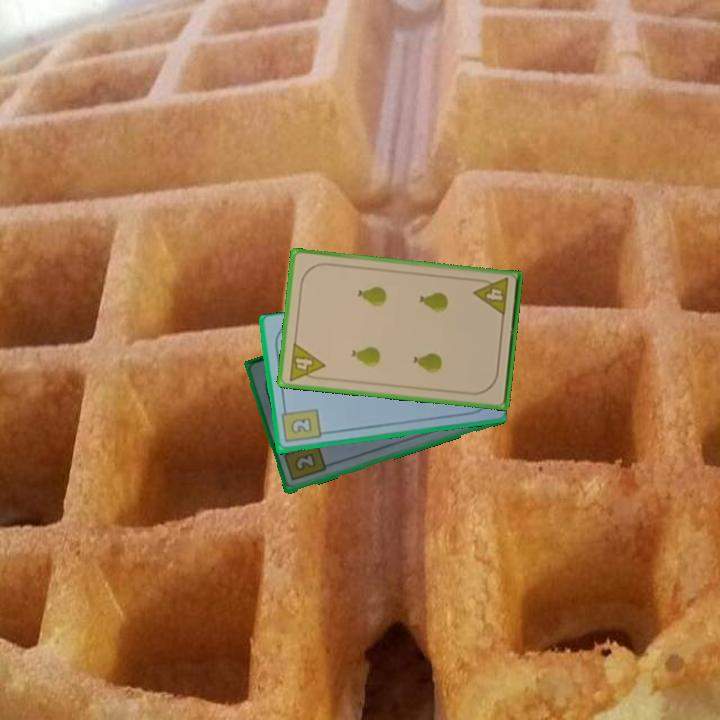2b: (280, 440, 329, 484), (278, 403, 323, 446)
4p: (285, 339, 328, 384), (471, 274, 511, 319)
